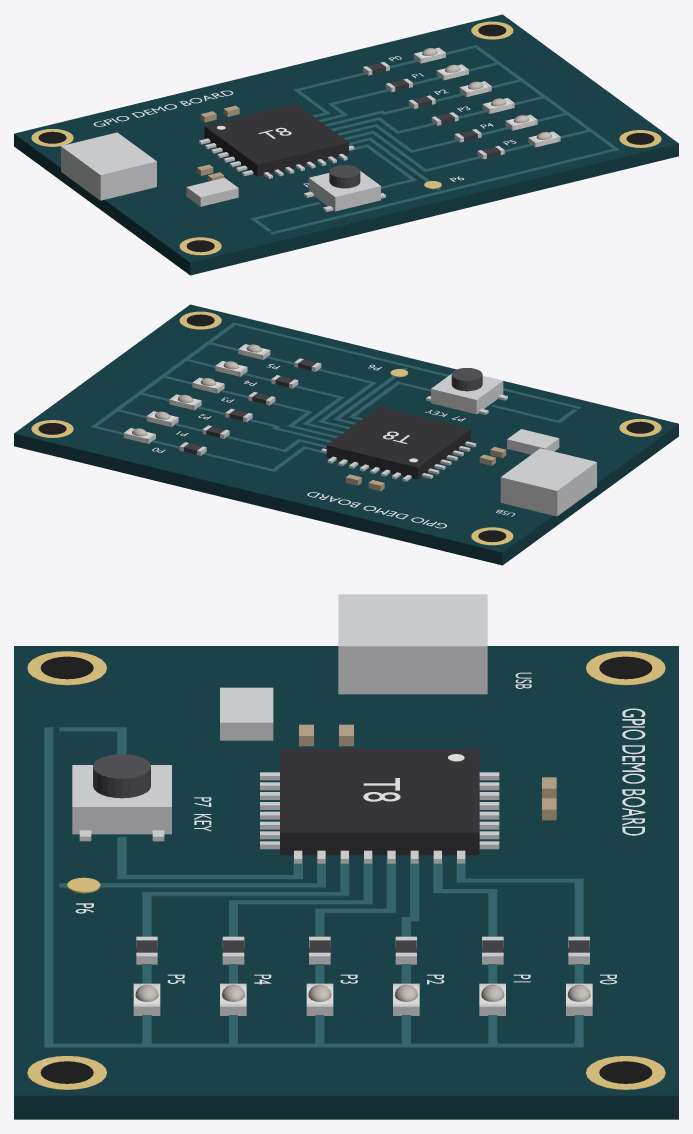
Rendered from board.glb.
3 views of the same model, one above another, from view 1: azimuth 30°, elevation 25°; view 2: azimuth 150°, elevation 25°; view 3: azimuth 270°, elevation 25° (orthographic). The views are drawn at different scales.
Visible parts, largest first — view 1: PCB, CHIP, USB, TRACE_GND, BTN_base, HOLE_RINGS, SMD_PADS, HOLES, XTAL, LED_BODIES, LEGS_OTHER, RESISTORS (+10 smaller); view 2: PCB, CHIP, USB, TRACE_GND, BTN_base, HOLE_RINGS, SMD_PADS, HOLES, LED_BODIES, XTAL, SILK, LEGS_OTHER (+9 smaller); view 3: PCB, CHIP, USB, TRACE_GND, BTN_base, HOLE_RINGS, SMD_PADS, HOLES, XTAL, LEGS_OTHER, SILK, BTN_cap (+11 smaller).
Part boxes in pixels (x1,y1,x2,y2): PCB: (14,14,678,275); CHIP: (204,104,348,176); USB: (61,132,156,200); TRACE_GND: (250,45,619,234); BTN_base: (304,171,385,211); HOLE_RINGS: (31,21,661,255); SMD_PADS: (363,47,560,159); HOLES: (38,24,654,252); XTAL: (186,177,238,206); LED_BODIES: (417,48,557,146); LEGS_OTHER: (199,138,347,178); RESISTORS: (367,63,500,157); PCB: (14,304,678,565); CHIP: (326,406,470,479); USB: (500,448,596,516); TRACE_GND: (90,322,581,435); BTN_base: (426,373,507,414); HOLE_RINGS: (31,311,661,545); SMD_PADS: (123,344,321,455); HOLES: (38,314,654,542); LED_BODIES: (126,345,266,443); XTAL: (507,429,559,454); SILK: (152,318,514,528); LEGS_OTHER: (327,441,476,481); PCB: (14,646,678,1119); CHIP: (280,748,479,855); USB: (338,594,487,694); TRACE_GND: (44,727,583,1048); BTN_base: (72,765,171,841); HOLE_RINGS: (27,651,665,1089); SMD_PADS: (133,936,592,1015); HOLES: (40,656,652,1083); XTAL: (220,687,273,740); LEGS_OTHER: (260,772,499,849); SILK: (43,672,645,1064); BTN_cap: (93,754,150,798).
Bounding box in the file's own units: 6.45 × 0.48 × 4.
